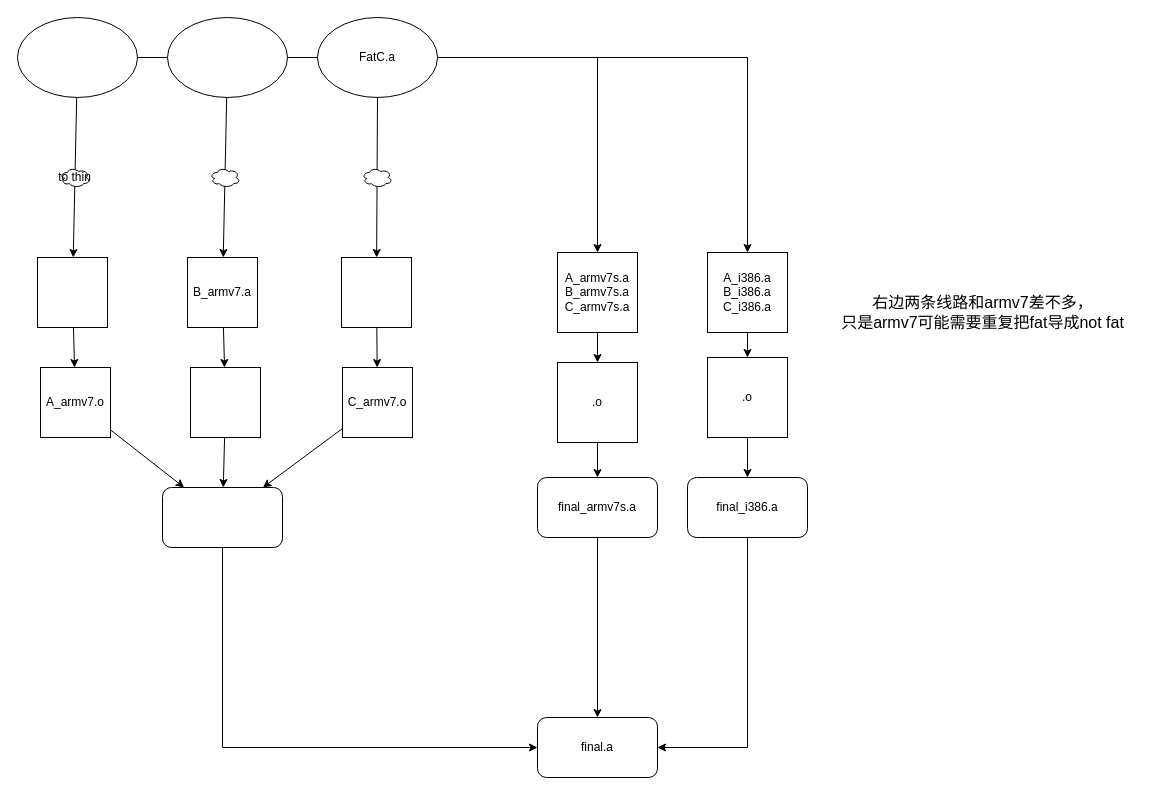
Image size: 1150x795. Some labels were removed from this diagram. Each missing label, with the box of its shape:
A_armv7.a: (36, 256, 108, 328)
B_armv7.o: (190, 366, 260, 438)
C_armv7.a: (340, 256, 412, 328)
FatA.a: (16, 16, 138, 98)
FatB.a: (166, 16, 288, 98)
final_armv7.a: (162, 486, 282, 548)
